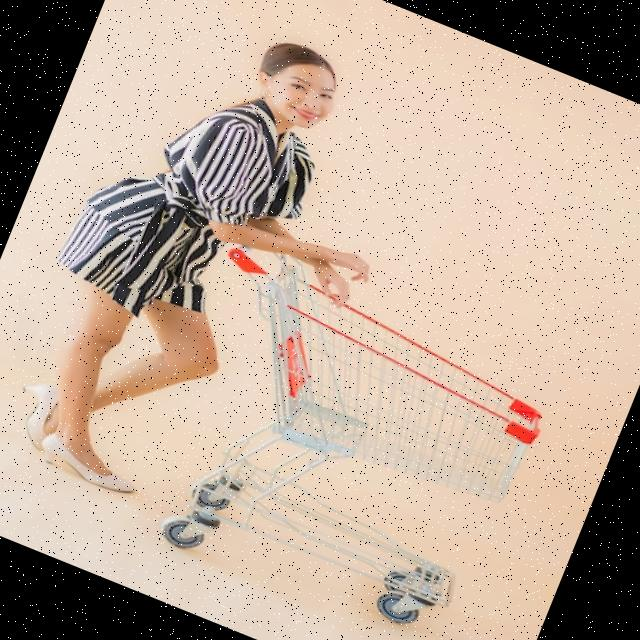Person: (0, 0, 441, 552)
